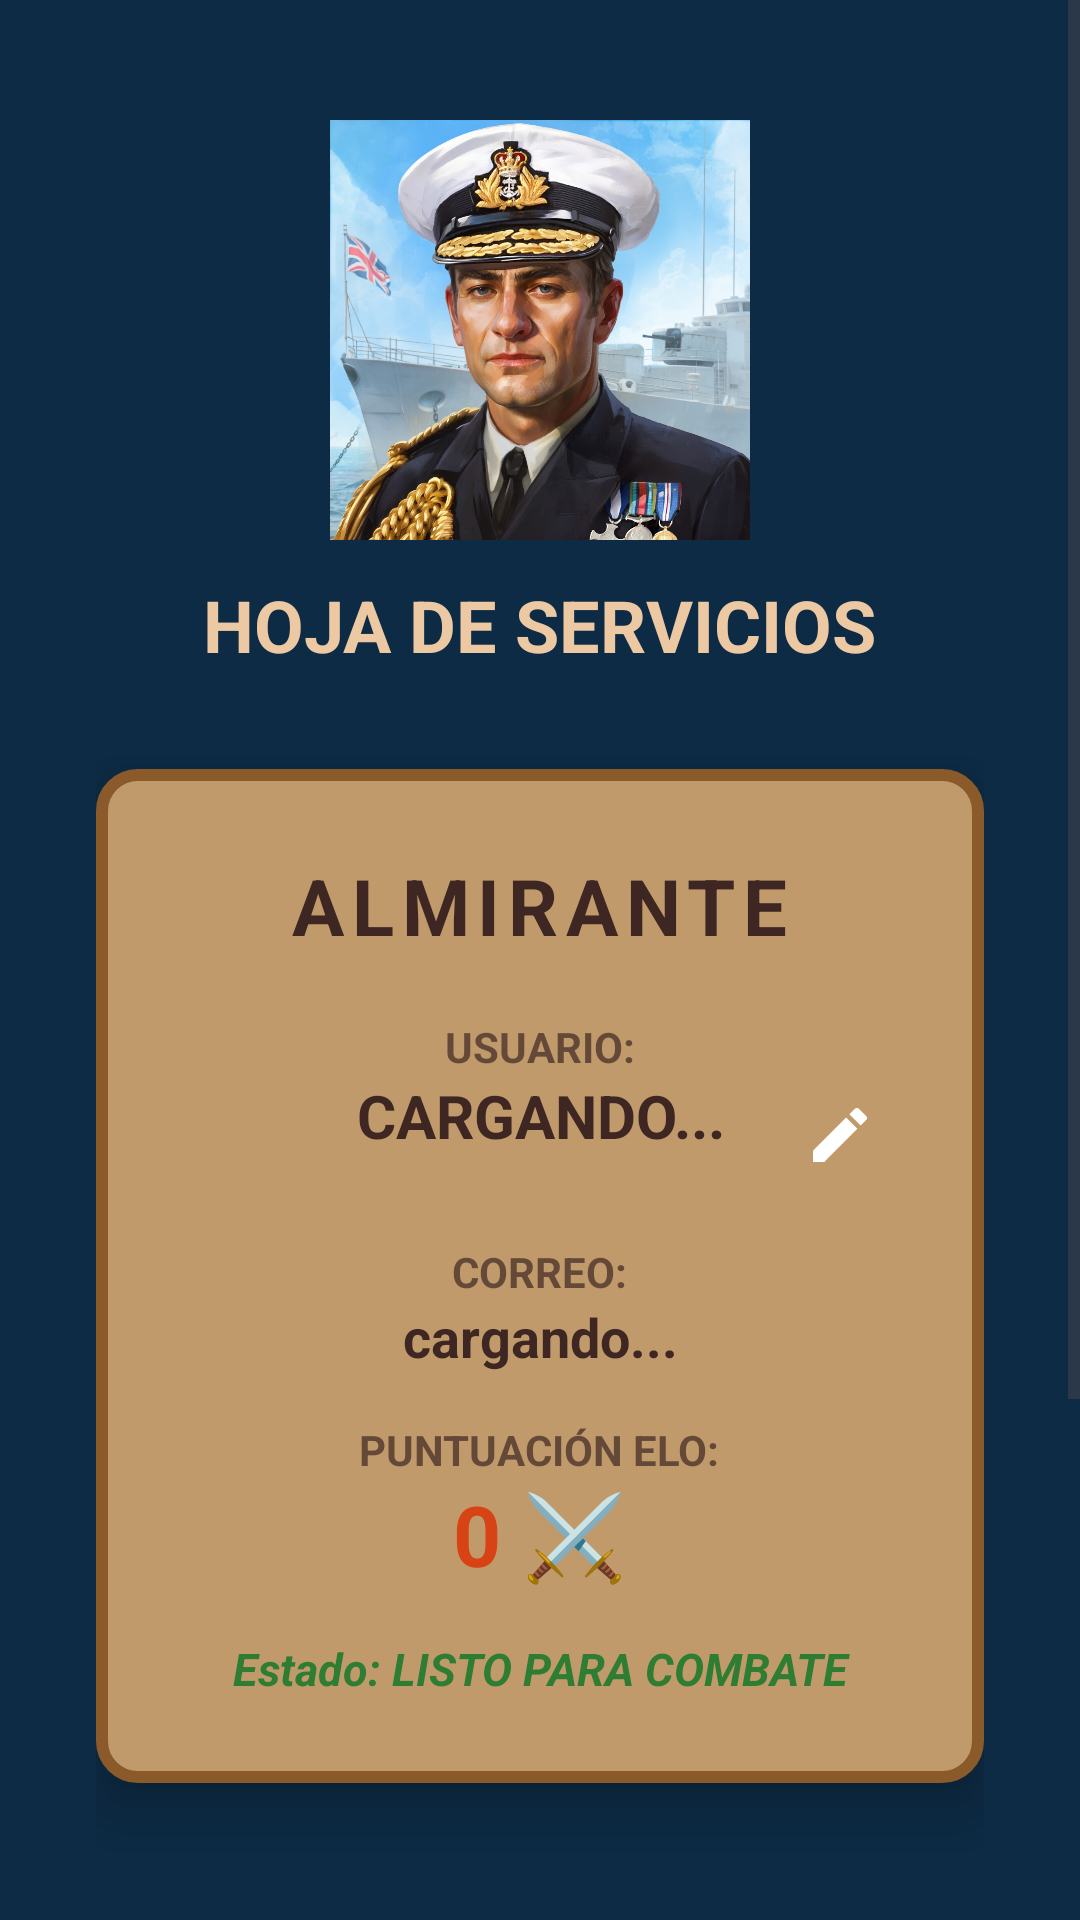

Icons on this 1080px x 1920px Android screen, each with the point to tap as [x,y]:
lapiz: [840,1135]
